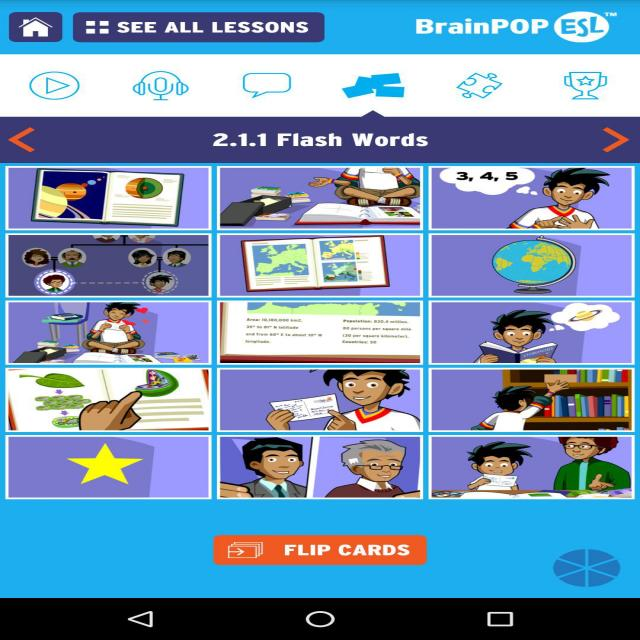button: (21, 68, 640, 113), (214, 519, 451, 570)
icon: (527, 520, 640, 592)
image: (8, 160, 640, 503)
